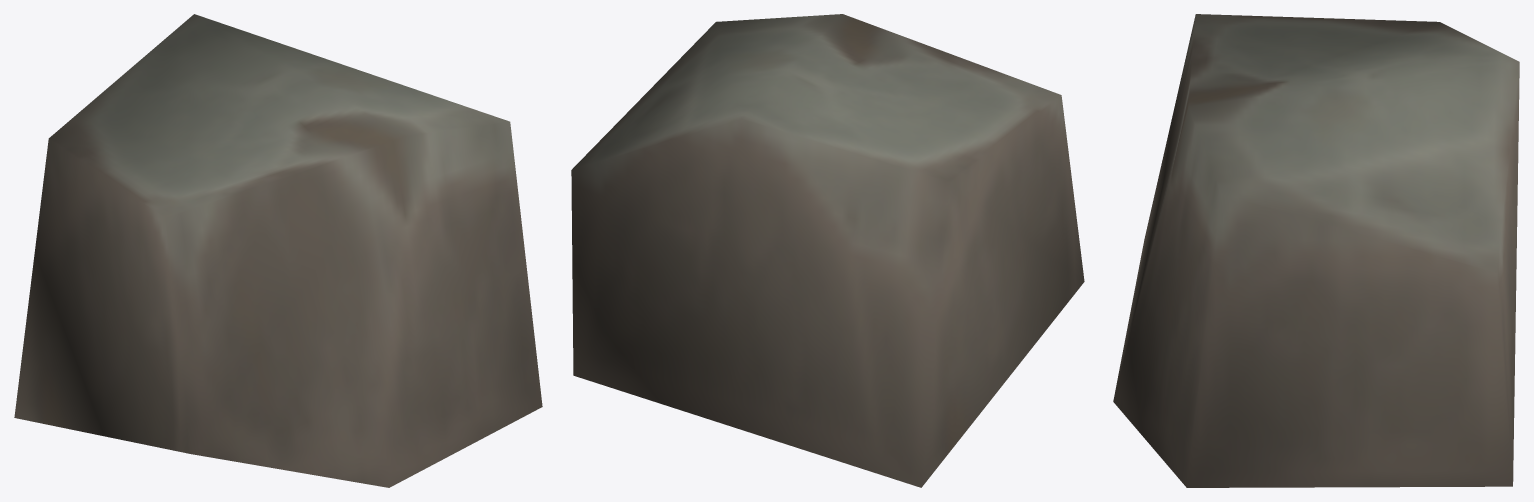
File: SM_FW01_Floor_Debris_09.fbx
3 renders of one model, left to right at view 1: azimuth 30°, elevation 25°; view 2: azimuth 150°, elevation 25°; view 3: azimuth 270°, elevation 25°, orthographic. The views are drawn at different scales.
Visible parts, largest first — view 1: SM_FW01_Floor_Debris_09; view 2: SM_FW01_Floor_Debris_09; view 3: SM_FW01_Floor_Debris_09.
Part boxes in pixels (x1=…): SM_FW01_Floor_Debris_09: x1=14, y1=14, x2=542, y2=487; SM_FW01_Floor_Debris_09: x1=571, y1=14, x2=1084, y2=487; SM_FW01_Floor_Debris_09: x1=1113, y1=14, x2=1519, y2=487.
Size of the model in its own units: 0.2377 by 0.212 by 0.2135.
